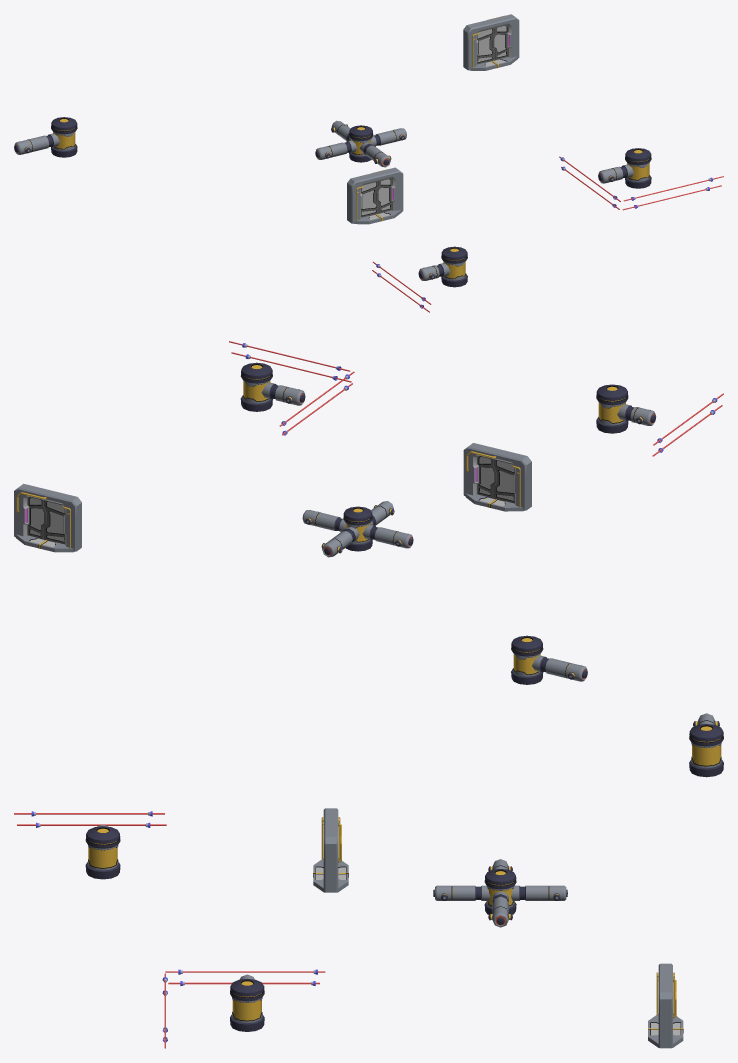
The picture shows the model from 3 angles, top to bottom: view 1: azimuth 30°, elevation 25°; view 2: azimuth 150°, elevation 25°; view 3: azimuth 270°, elevation 25°; orthographic projection. The views are drawn at different scales.
Parts seen in each view (by area): view 1: pCylinder13 (×4), Base (×2), Right (×2), pCylinder14 (×2); view 2: pCylinder13 (×4), Base (×2), pCylinder14 (×6), Right (×2), Left (×2); view 3: pCylinder13 (×4), Base (×2), pCylinder14 (×3), Base5 (×2).
Part boxes in pixels (x1,y1,x2,y2): pCylinder13 (×4): (51, 117, 651, 287); Base (×2): (347, 14, 519, 223); Right (×2): (361, 27, 494, 217); pCylinder14 (×2): (14, 133, 357, 159); pCylinder13 (×4): (240, 362, 628, 684); Base (×2): (14, 443, 531, 551); pCylinder14 (×6): (261, 382, 656, 681); Right (×2): (43, 459, 514, 544); Left (×2): (27, 455, 496, 539); pCylinder13 (×4): (85, 724, 723, 1031); Base (×2): (323, 808, 672, 1048); pCylinder14 (×3): (433, 885, 567, 927); Base5 (×2): (313, 858, 683, 1047).
Bounding box in the file's own units: 527 × 43.23 × 494.
